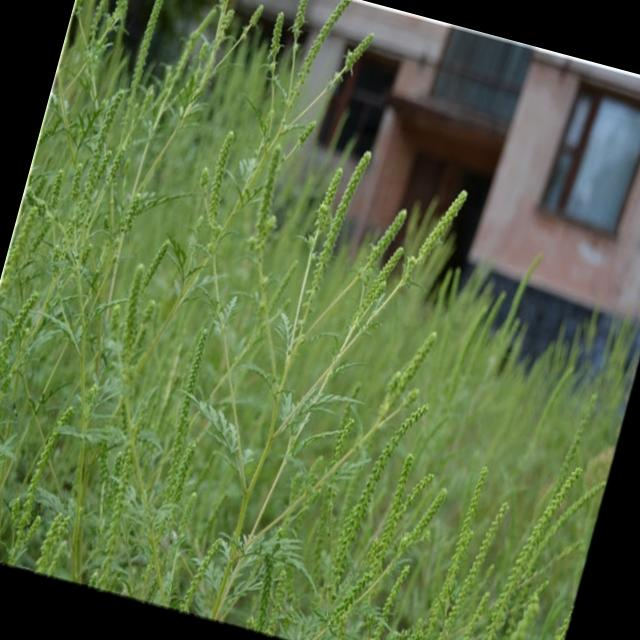ambrosia: (302, 163, 496, 558), (58, 221, 258, 522), (413, 446, 589, 640), (0, 144, 110, 433), (260, 127, 383, 358), (67, 0, 253, 150)
